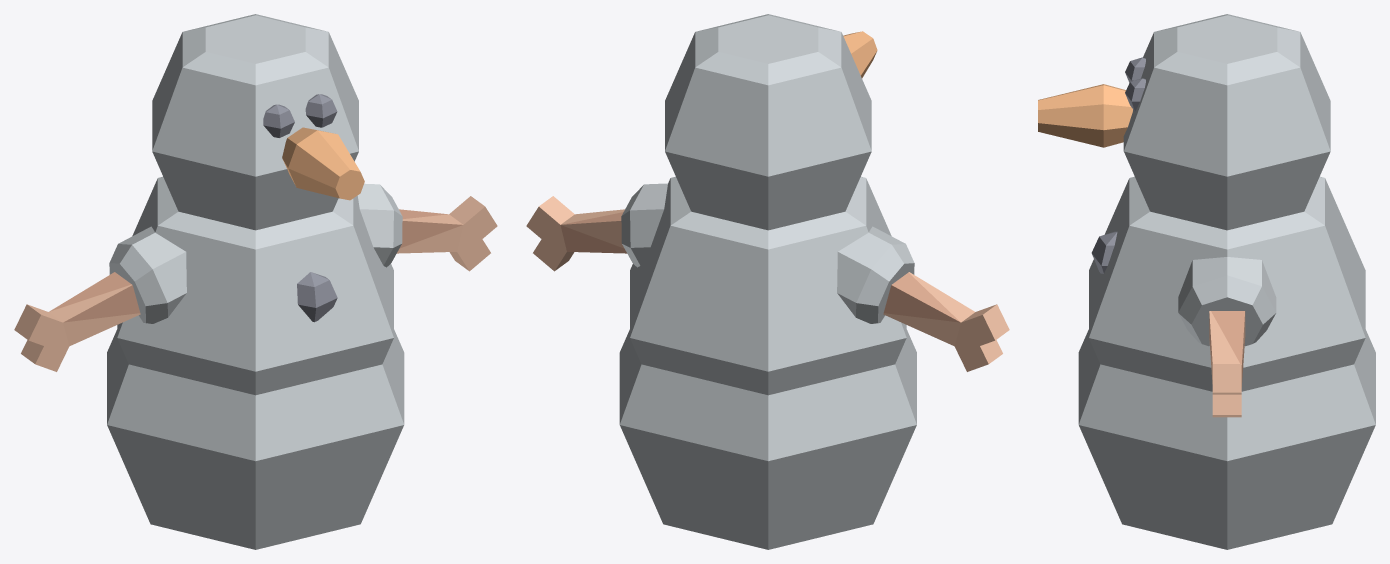
The model's file is acc_snowman.glb.
3 views of the same model, side by side, from view 1: azimuth 30°, elevation 25°; view 2: azimuth 150°, elevation 25°; view 3: azimuth 270°, elevation 25° (orthographic).
Visible parts, largest first — view 1: snowman; view 2: snowman; view 3: snowman.
Part boxes in pixels (bbox=[...]): snowman: bbox=[14, 14, 497, 549]; snowman: bbox=[526, 14, 1009, 549]; snowman: bbox=[1038, 14, 1375, 549].
Size of the model in its own units: 0.9849 by 0.95 by 0.6142.
